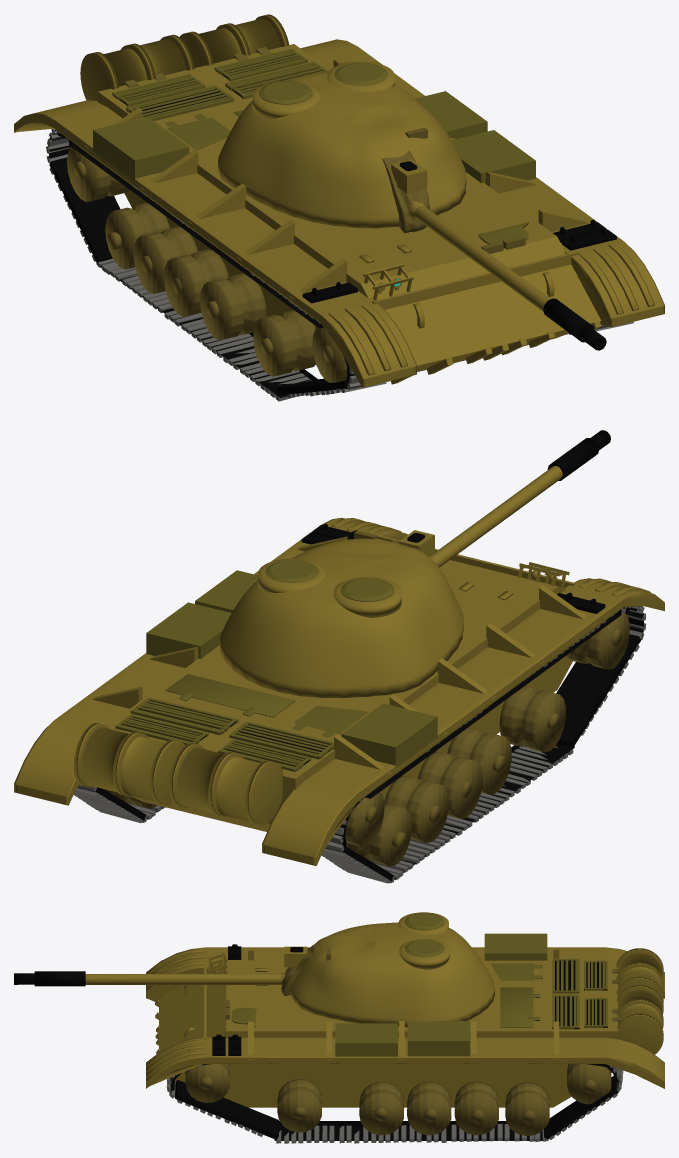
The model's file is t_5455_tank.glb.
3 views of the same model, one above another, from view 1: azimuth 30°, elevation 25°; view 2: azimuth 150°, elevation 25°; view 3: azimuth 270°, elevation 25° (orthographic). The views are drawn at different scales.
Parts seen in each view (by area): view 1: Body_2, Turret_32, Left Fender_4, Right Fender_3, Cube.001_67, Ridhes 1.001_68, Barrel 1.001_21, Left Stowage box 1_7, Cylinder_45, Cylinder.024_64, Barrel 1_20, Right Stowage box 2_5 (+23 smaller); view 2: Turret_32, Left Fender_4, Body_2, Right Fender_3, Cube.001_67, Barrel 1.001_21, Barrel 1_20, Ridhes 1.001_68, Left Stowage box 1_7, Cylinder.024_64, Right Stowage box 1_6, Cylinder.002_47 (+19 smaller); view 3: Body_2, Turret_32, Right Fender_3, Cube.005_65, Left Fender_4, Ridhes 1_66, Barrel 1_20, Right Stowage box 1_6, Cannon_34, Right Stowage box 2_5, Cylinder.015_54, Cylinder.020_59 (+23 smaller).
Part boxes in pixels (x1,y1,x2,y2): Body_2: (98,44,601,384); Turret_32: (217,71,466,228); Left Fender_4: (14,100,416,387); Right Fender_3: (300,39,664,327); Cube.001_67: (48,129,354,397); Ridhes 1.001_68: (46,128,386,401); Barrel 1.001_21: (80,34,194,100); Left Stowage box 1_7: (93,116,189,181); Cylinder_45: (200,273,266,340); Cylinder.024_64: (253,310,315,376); Barrel 1_20: (180,14,289,67); Right Stowage box 2_5: (452,130,535,183); Turret_32: (219,538,463,697); Left Fender_4: (262,578,664,865); Body_2: (107,533,574,831); Right Fender_3: (14,518,407,805); Cube.001_67: (325,607,643,882); Barrel 1.001_21: (169,743,283,825); Barrel 1_20: (74,723,184,804); Ridhes 1.001_68: (321,606,646,883); Left Stowage box 1_7: (341,703,437,767); Cylinder.024_64: (499,686,565,752); Right Stowage box 1_6: (146,602,231,658); Cylinder.002_47: (384,775,448,842); Body_2: (155,960,617,1107); Turret_32: (290,922,495,1027); Right Fender_3: (146,1021,664,1088); Cube.005_65: (170,1064,618,1140); Left Fender_4: (146,947,664,1001); Ridhes 1_66: (166,1064,623,1143); Barrel 1_20: (617,985,663,1054); Right Stowage box 1_6: (407,1021,470,1056); Cannon_34: (85,972,286,985); Right Stowage box 2_5: (335,1023,397,1056); Cylinder.015_54: (505,1082,549,1135); Cylinder.020_59: (277,1079,321,1132).
Bounding box in the file's own units: 3.09 × 2.07 × 7.72.
